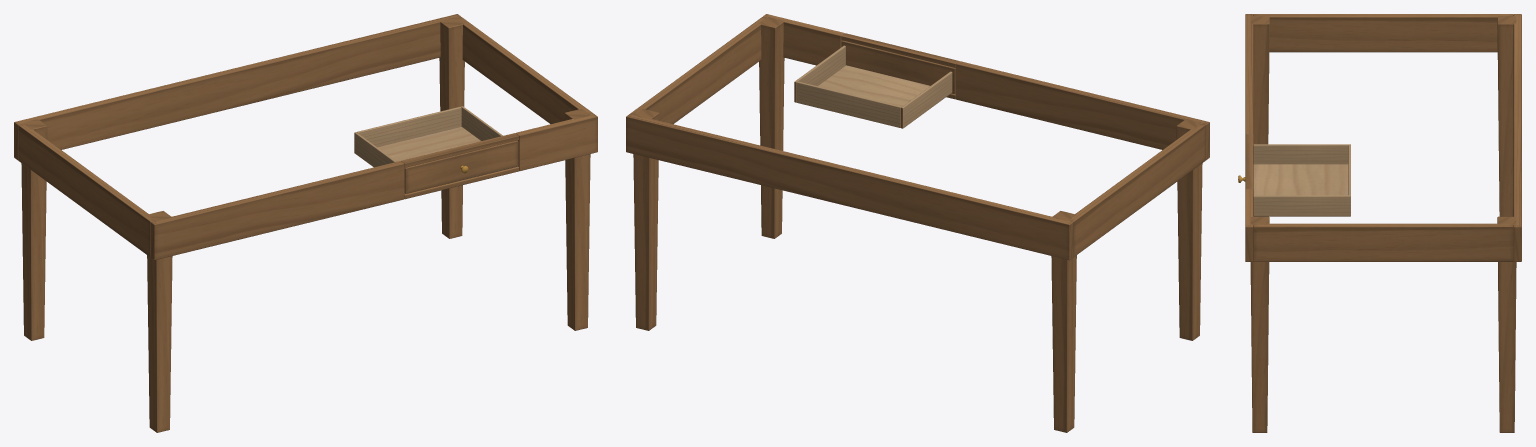
Rendered from desk_base.glb.
3 views of the same model, side by side, from view 1: azimuth 30°, elevation 25°; view 2: azimuth 150°, elevation 25°; view 3: azimuth 270°, elevation 25° (orthographic).
Parts seen in each view (by area): view 1: desk_base_frame, desk_drawer_box, desk_drawer_front; view 2: desk_base_frame, desk_drawer_box, desk_drawer_front; view 3: desk_base_frame, desk_drawer_box.
Boxes of the visible parts, x1,y1,x2,y2 form: desk_base_frame: [14, 14, 597, 432]; desk_drawer_box: [354, 106, 502, 167]; desk_drawer_front: [404, 140, 518, 193]; desk_base_frame: [626, 14, 1209, 432]; desk_drawer_box: [794, 45, 952, 128]; desk_drawer_front: [841, 40, 955, 93]; desk_base_frame: [1245, 14, 1521, 432]; desk_drawer_box: [1253, 144, 1350, 216].
Bounding box in the file's own units: 15.5 × 7.1 × 8.72.
Materials: 2 (1 with a texture image).
